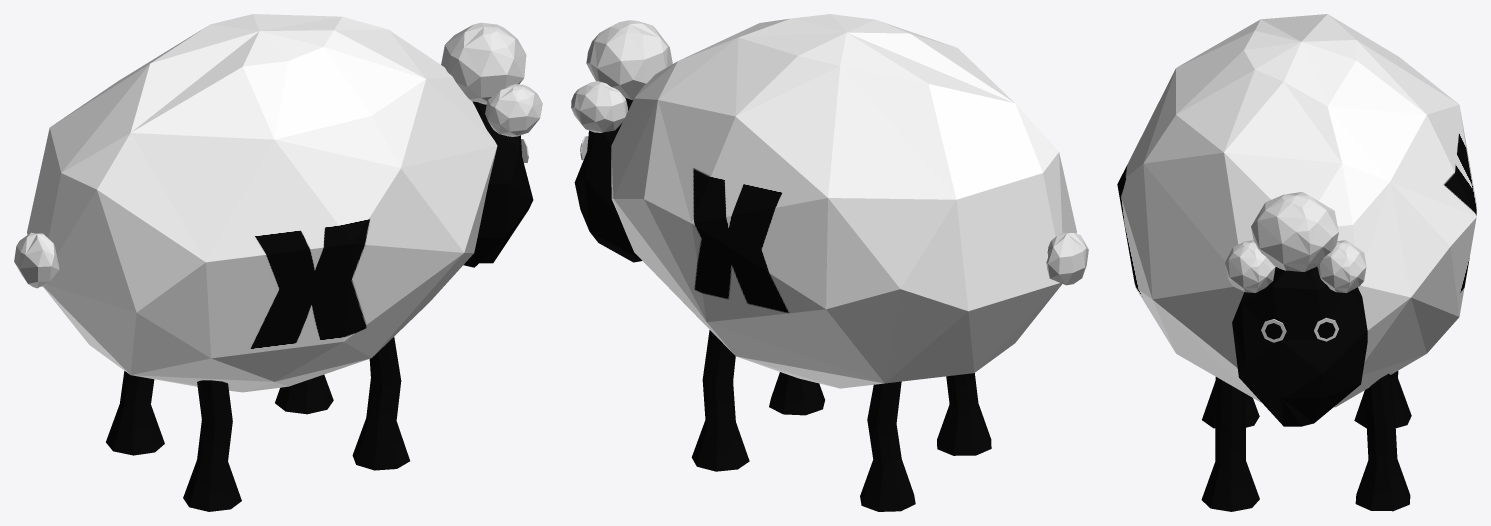
Rendered from sheeptimes.fbx.
3 renders of one model, left to right at view 1: azimuth 30°, elevation 25°; view 2: azimuth 150°, elevation 25°; view 3: azimuth 270°, elevation 25°, orthographic.
Visible parts, largest first — view 1: pSphere1, pSphere7, pSphere4, pCylinder1, pCylinder5, pCylinder7, pSphere8, pSphere3, pCylinder6; view 2: pSphere1, pCylinder6, pSphere7, pCylinder7, pSphere4, pCylinder1, pSphere9, pSphere3, pCylinder5; view 3: pSphere1, pSphere4, pSphere7, pCylinder5, pCylinder6, pSphere8, pSphere9, pCylinder7, pCylinder1.
Boxes of the visible parts, x1,y1,x2,y2 form: pSphere1: (27, 14, 497, 392); pSphere7: (441, 22, 526, 104); pSphere4: (463, 101, 533, 267); pCylinder1: (183, 380, 241, 511); pCylinder5: (352, 337, 409, 470); pCylinder7: (106, 371, 164, 455); pSphere8: (485, 84, 542, 136); pSphere3: (14, 232, 59, 288); pCylinder6: (275, 374, 333, 414); pSphere1: (611, 14, 1076, 388); pCylinder6: (691, 330, 749, 471); pSphere7: (586, 20, 672, 100); pCylinder7: (860, 381, 915, 511); pSphere4: (574, 98, 641, 262); pCylinder1: (937, 373, 991, 455); pSphere9: (571, 81, 627, 132); pSphere3: (1046, 232, 1088, 285); pCylinder5: (769, 372, 824, 415); pSphere1: (1117, 14, 1476, 407); pSphere4: (1232, 266, 1367, 426); pSphere7: (1251, 192, 1338, 271); pCylinder5: (1201, 378, 1259, 511); pCylinder6: (1355, 373, 1410, 511); pSphere8: (1225, 240, 1275, 292); pSphere9: (1317, 240, 1366, 292); pCylinder7: (1354, 371, 1411, 428); pCylinder1: (1202, 377, 1259, 428).
Size of the model in its own units: 3.08 by 2.46 by 1.93.
3 materials, 1 textured.
